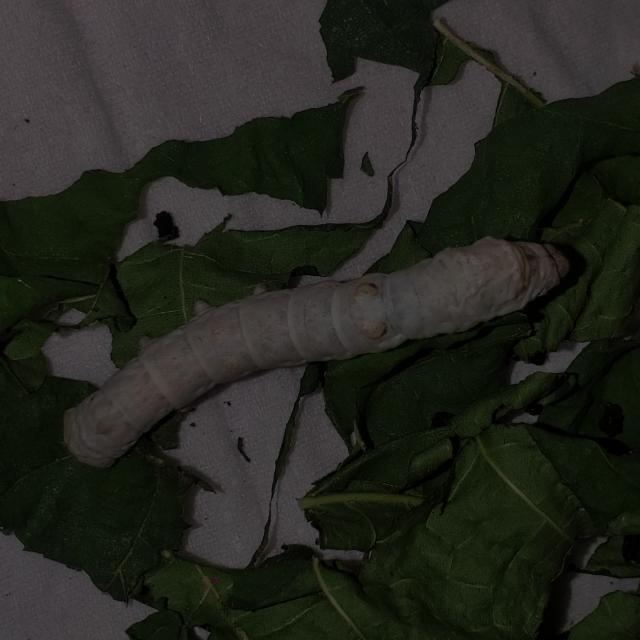Healthy: (51, 226, 575, 477)
